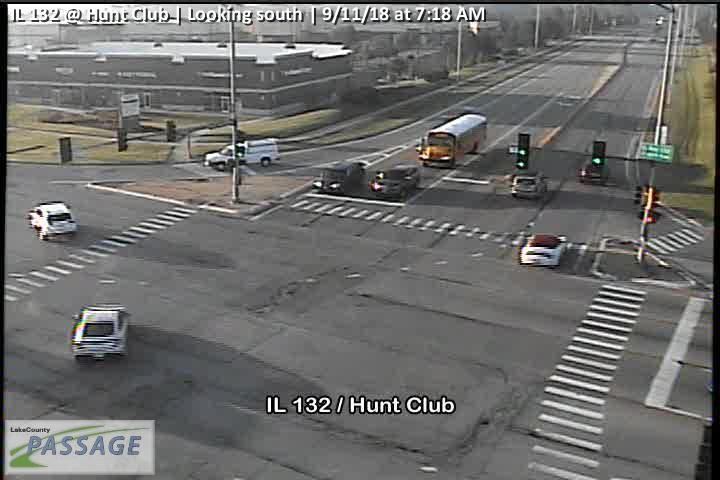Bus: (416, 112, 488, 170)
SUV: (71, 301, 132, 359), (205, 138, 280, 172), (369, 161, 420, 202), (28, 201, 79, 240), (313, 160, 367, 196), (511, 169, 551, 199)
Sedan: (520, 233, 568, 269), (578, 156, 609, 183)
